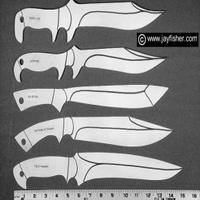knife: (10, 114, 187, 147), (9, 153, 184, 185), (12, 47, 181, 77), (12, 3, 164, 34), (9, 84, 176, 110)
